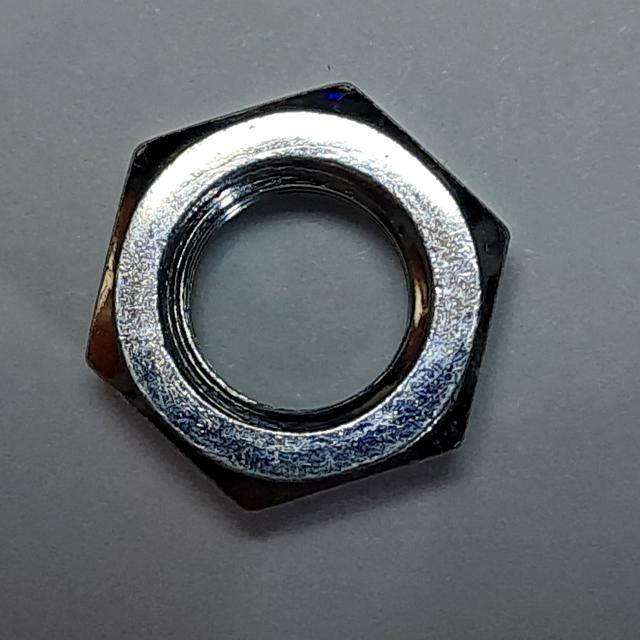Excellent: (72, 68, 541, 528)
